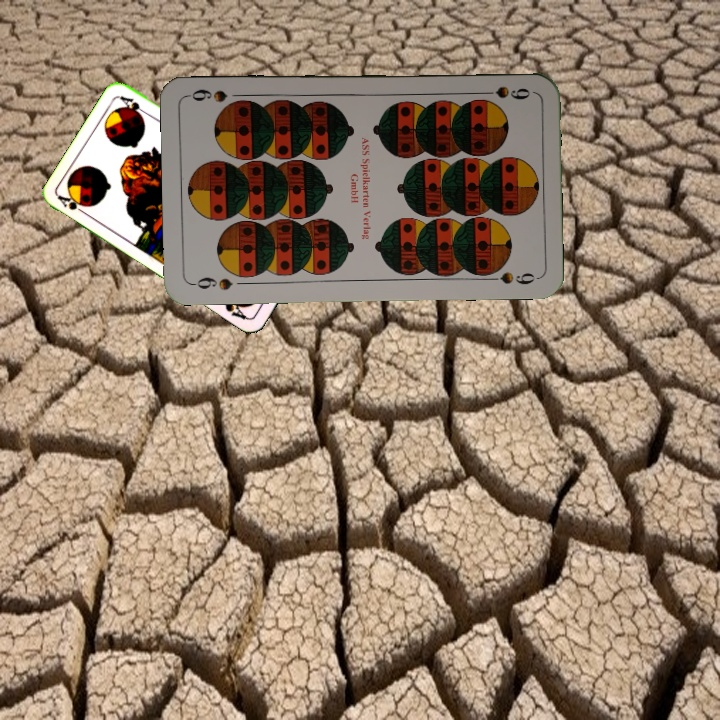S9: (475, 82, 533, 102), (188, 273, 235, 293)
SA: (54, 191, 91, 219)
